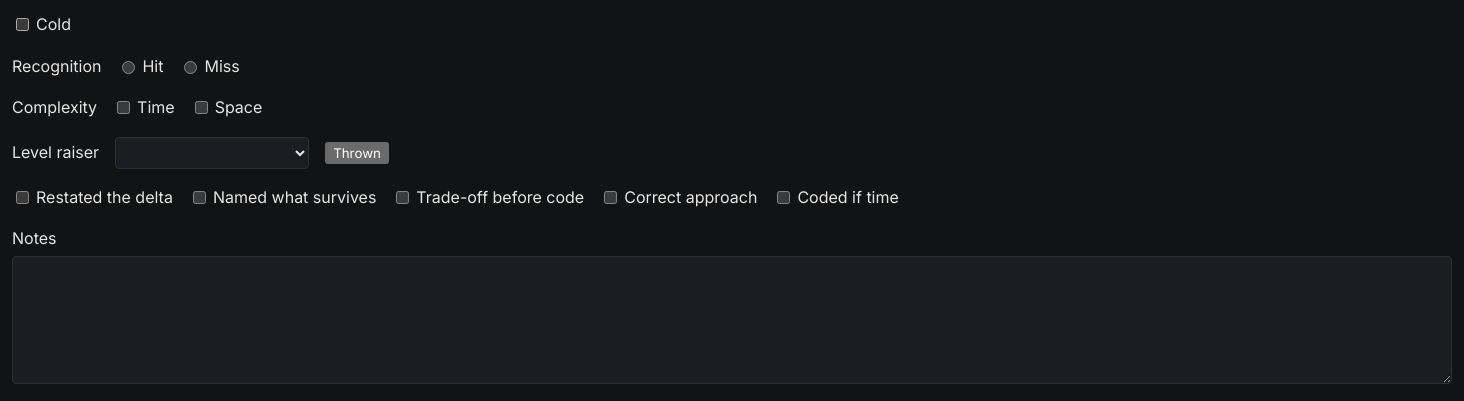
Test case: InterviewNotesComponent › the verdict mark follows the checkboxes: approach and two others
Select "Stream / online" in the dropdown with class "interview-notes__move" at (212, 153), box [115,137,309,169]
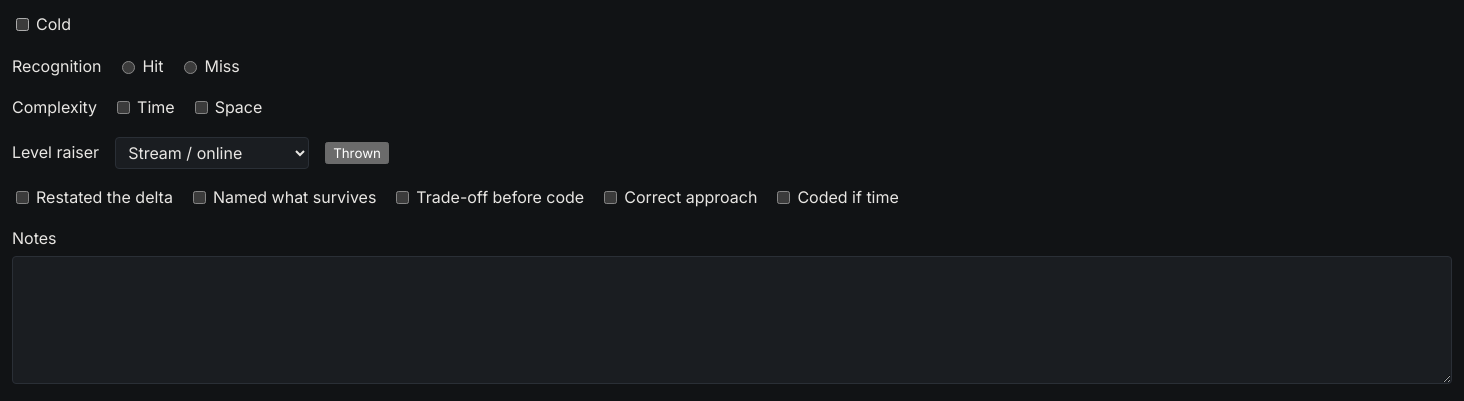
Click the checkbox with class "interview-notes__check-approach".
click(611, 198)  # box [604,191,617,204]
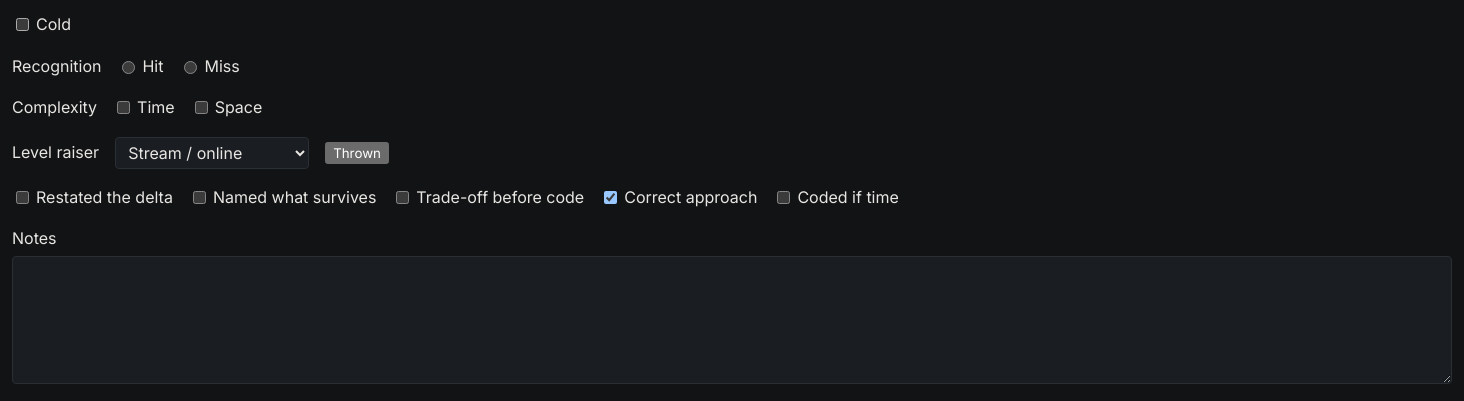
Click the checkbox with class "interview-notes__check-restated".
click(22, 198)  # box [16,191,29,204]
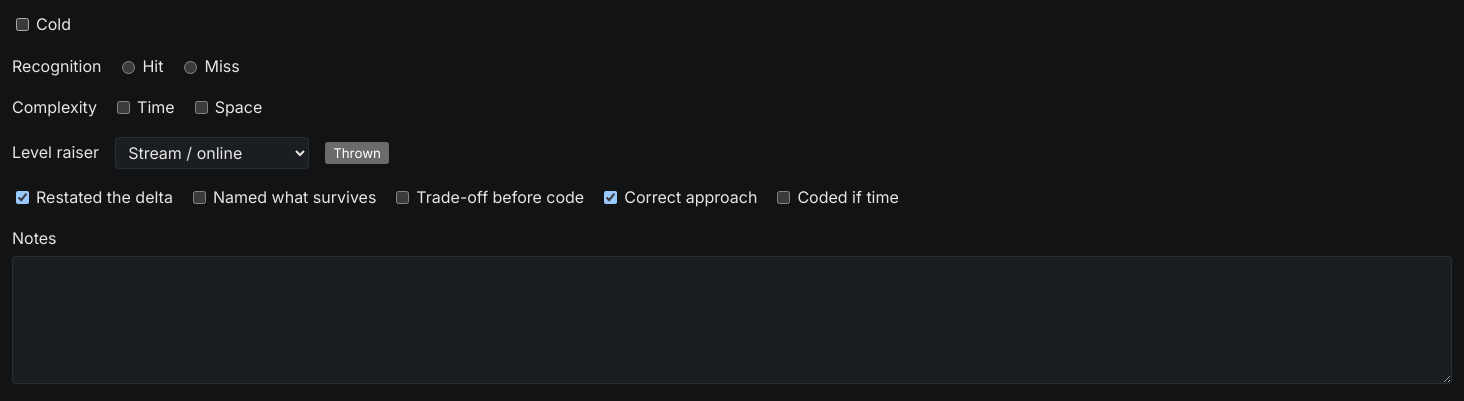
Click the checkbox with class "interview-notes__check-survives".
click(199, 198)  # box [193,191,206,204]
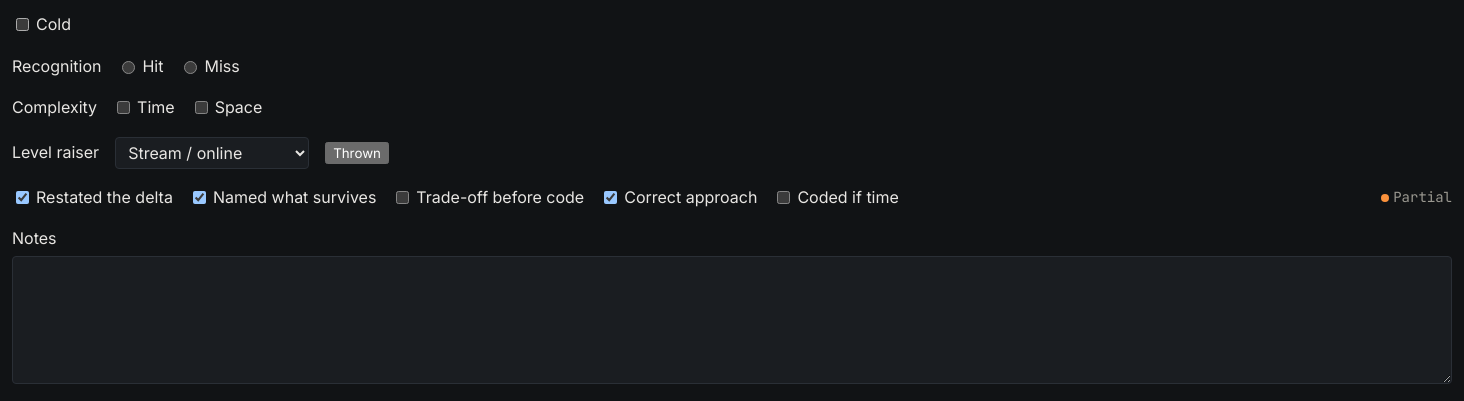
Result: the element with class "interview-notes__verdict" reads "Partial" at [1393,188,1452,206]
